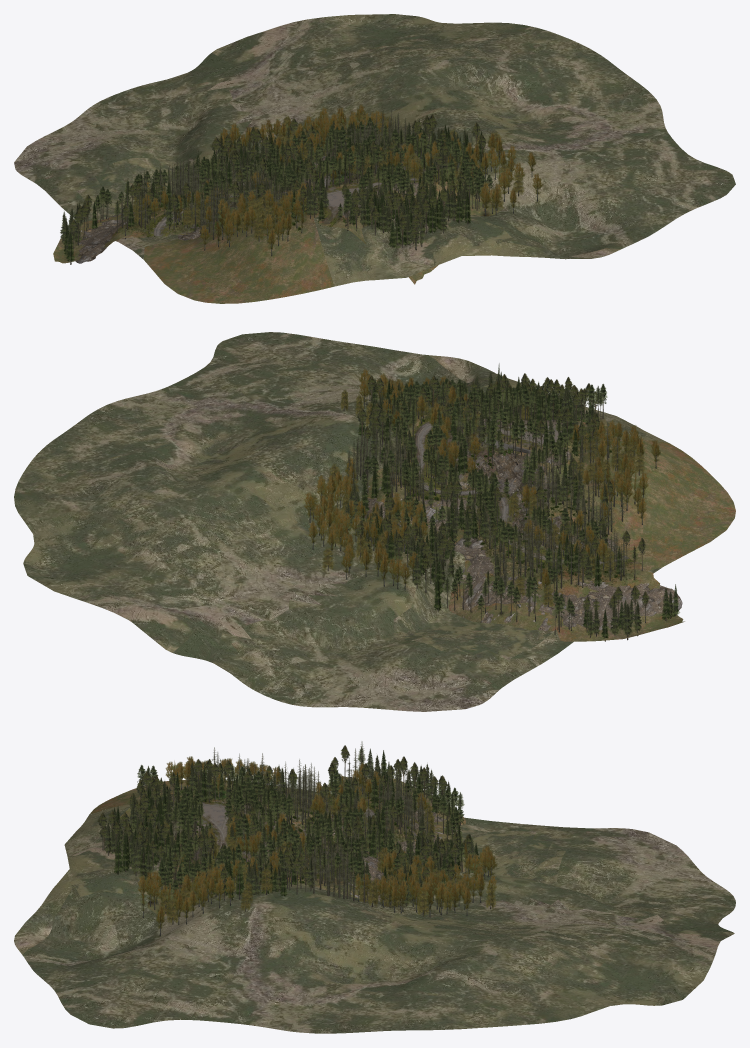
File: update_dirt_road_through_forest (2).glb
3 renders of one model, top to bottom at view 1: azimuth 30°, elevation 25°; view 2: azimuth 150°, elevation 25°; view 3: azimuth 270°, elevation 25°, orthographic. The views are drawn at different scales.
Visible parts, largest first — view 1: Background_Tree_Atlas.020, Background_Tree_Atlas.001, Background_Tree_Atlas.021, Background_Tree_Atlas.006, Background_Tree_Atlas.019, Background_Tree_Atlas.024, Background_Tree_Atlas.011, Background_Tree_Atlas.004; view 2: Background_Tree_Atlas.020, Background_Tree_Atlas.001, Background_Tree_Atlas.021, Background_Tree_Atlas.006, Background_Tree_Atlas.019, Background_Tree_Atlas.022, Background_Tree_Atlas.024, Background_Tree_Atlas.011, Background_Tree_Atlas.013, Background_Tree_Atlas.025, Background_Tree_Atlas.004; view 3: Background_Tree_Atlas.020, Background_Tree_Atlas.001, Background_Tree_Atlas.006, Background_Tree_Atlas.021, Background_Tree_Atlas.019, Background_Tree_Atlas.004, Background_Tree_Atlas.024.
Boxes of the visible parts, <box> form: Background_Tree_Atlas.020: <box>14,14,735,286</box>; Background_Tree_Atlas.001: <box>60,104,542,262</box>; Background_Tree_Atlas.021: <box>53,155,504,303</box>; Background_Tree_Atlas.006: <box>70,111,518,264</box>; Background_Tree_Atlas.019: <box>75,155,418,263</box>; Background_Tree_Atlas.024: <box>146,161,439,236</box>; Background_Tree_Atlas.011: <box>114,173,440,238</box>; Background_Tree_Atlas.004: <box>145,123,537,256</box>; Background_Tree_Atlas.020: <box>14,332,667,711</box>; Background_Tree_Atlas.001: <box>304,363,679,638</box>; Background_Tree_Atlas.021: <box>362,408,735,641</box>; Background_Tree_Atlas.006: <box>313,379,675,641</box>; Background_Tree_Atlas.019: <box>360,419,682,634</box>; Background_Tree_Atlas.022: <box>467,450,616,552</box>; Background_Tree_Atlas.024: <box>398,418,633,567</box>; Background_Tree_Atlas.011: <box>399,413,641,598</box>; Background_Tree_Atlas.013: <box>414,421,625,566</box>; Background_Tree_Atlas.025: <box>417,421,629,564</box>; Background_Tree_Atlas.004: <box>309,395,656,598</box>; Background_Tree_Atlas.020: <box>14,790,735,1033</box>; Background_Tree_Atlas.001: <box>97,741,497,932</box>; Background_Tree_Atlas.006: <box>102,746,491,924</box>; Background_Tree_Atlas.021: <box>89,776,469,917</box>; Background_Tree_Atlas.019: <box>170,777,464,901</box>; Background_Tree_Atlas.004: <box>142,774,491,936</box>; Background_Tree_Atlas.024: <box>161,787,381,879</box>.
Size of the model in its own units: 551 by 111 by 548.
Materials: 26 (26 with a texture image).
